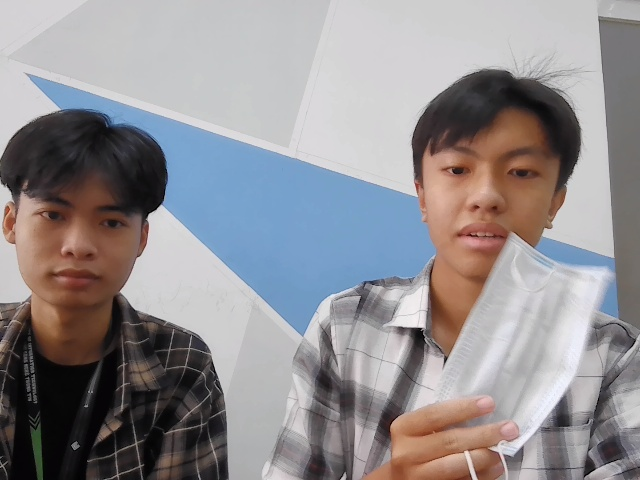human: (409, 57, 584, 275), (1, 105, 177, 303)
mask: (425, 228, 612, 452)
